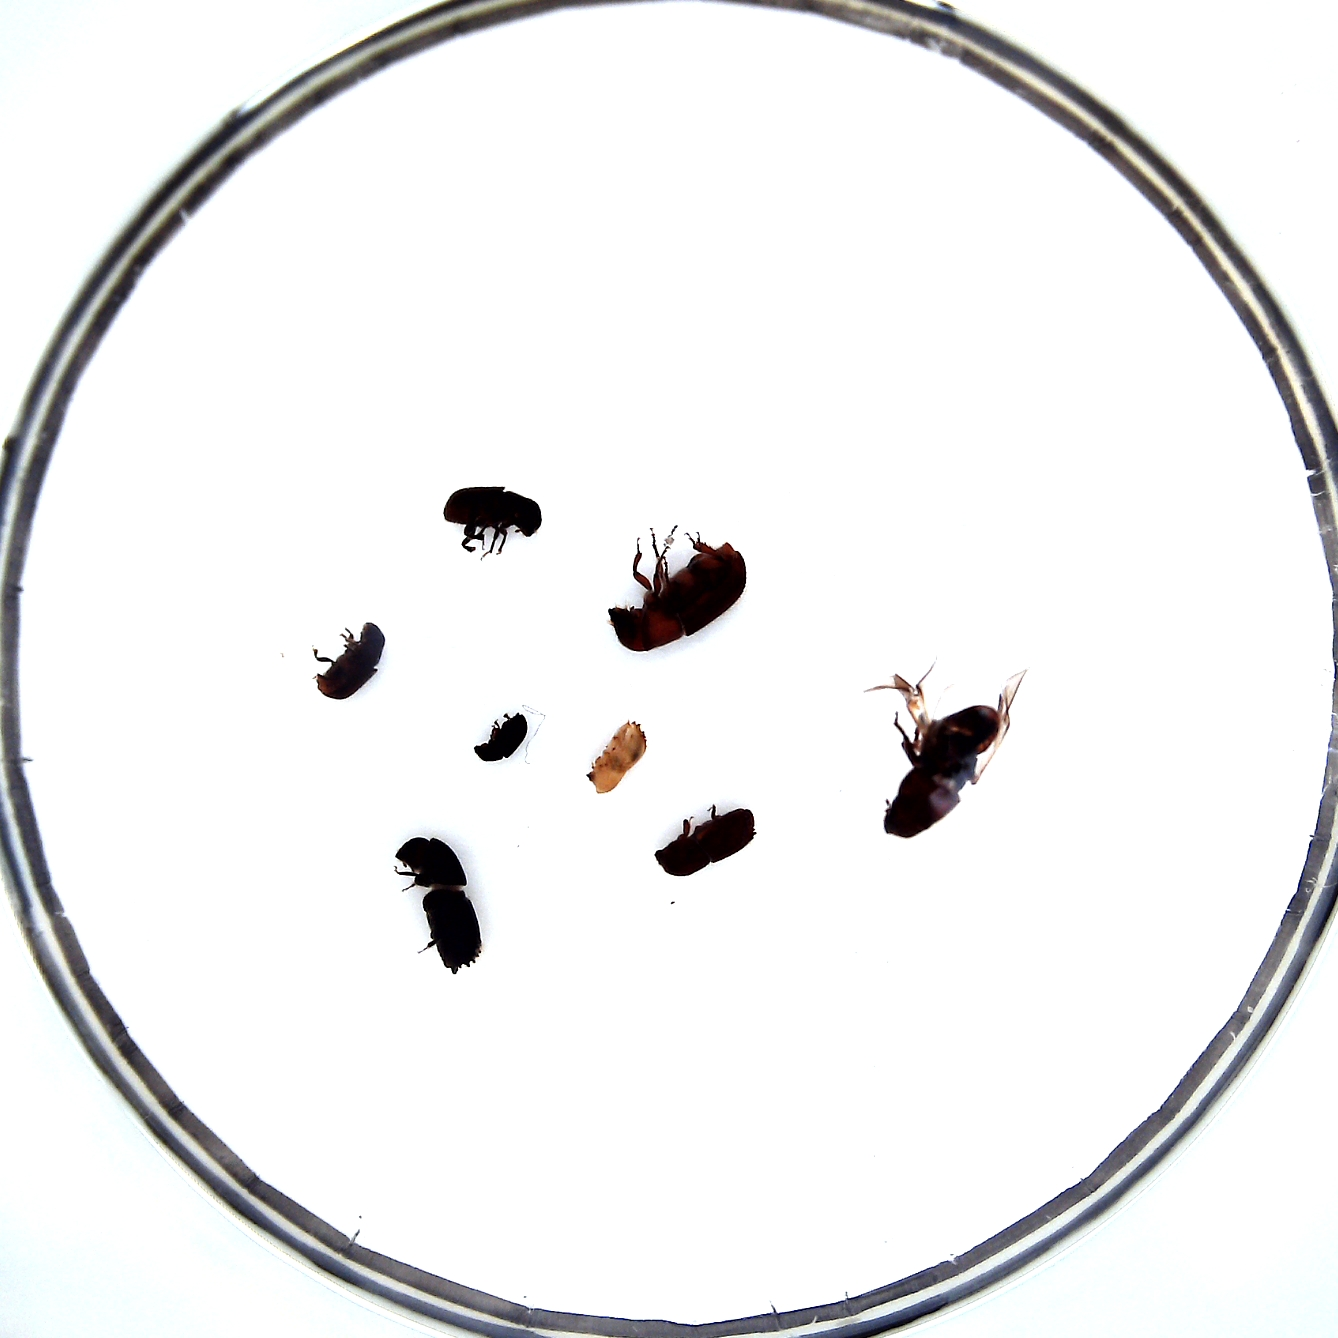Boerner: (393, 836, 482, 975)
Leconte: (883, 705, 1004, 839), (610, 545, 747, 654)
acuminatus: (475, 714, 531, 762)
armandi: (312, 622, 384, 701), (442, 486, 542, 542)
coleoptera: (584, 720, 648, 796)
linnaeus: (654, 807, 758, 879)
